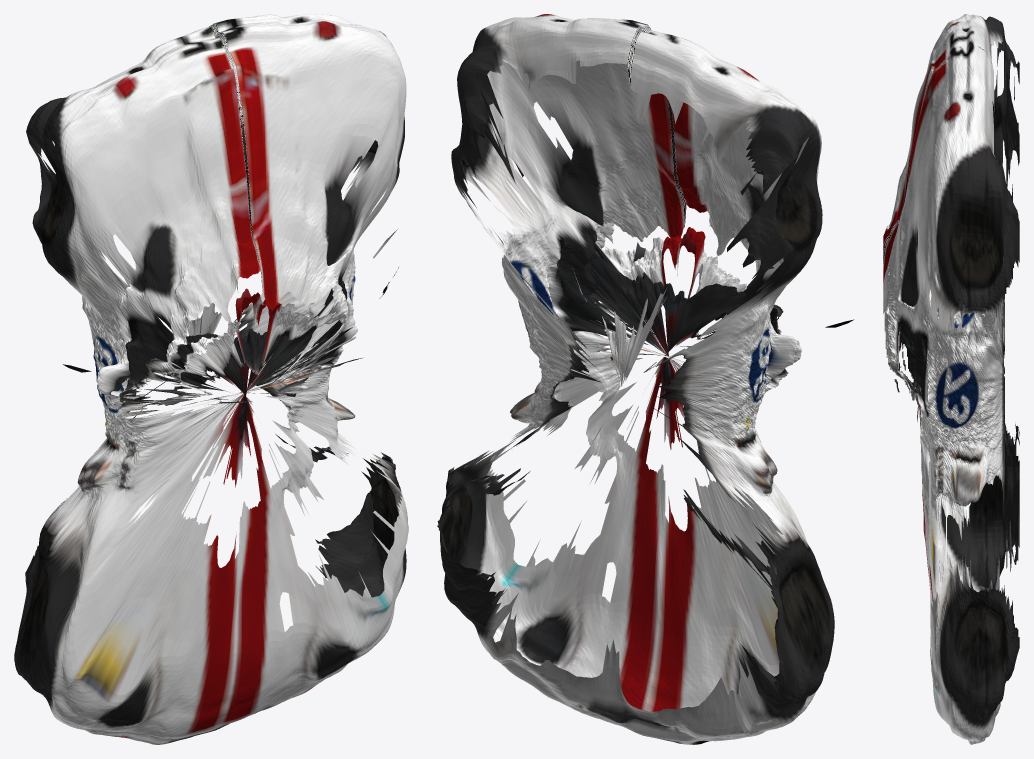
3 views of the same model, side by side, from view 1: azimuth 30°, elevation 25°; view 2: azimuth 150°, elevation 25°; view 3: azimuth 270°, elevation 25° (orthographic). The views are drawn at different scales.
Parts seen in each view (by area): view 1: geometry_0; view 2: geometry_0; view 3: geometry_0.
Part boxes in pixels (box(x1,y1,x2,y2)): geometry_0: box(14, 14, 408, 744); geometry_0: box(437, 14, 853, 744); geometry_0: box(883, 14, 1019, 744).
Bounding box in the file's own units: 1.07 × 1.96 × 0.3581.
Materials: 1 (1 with a texture image).
